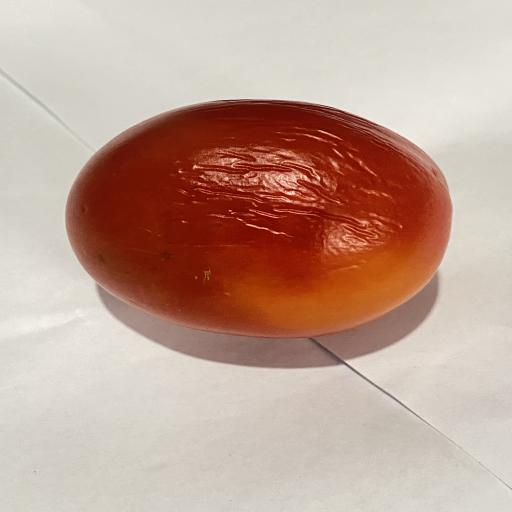spoiled: (66, 100, 451, 337)
